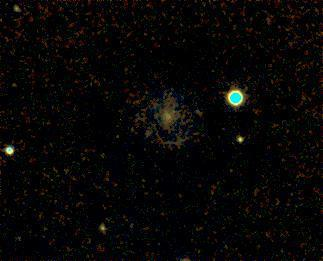star: (0, 74, 30, 104)
